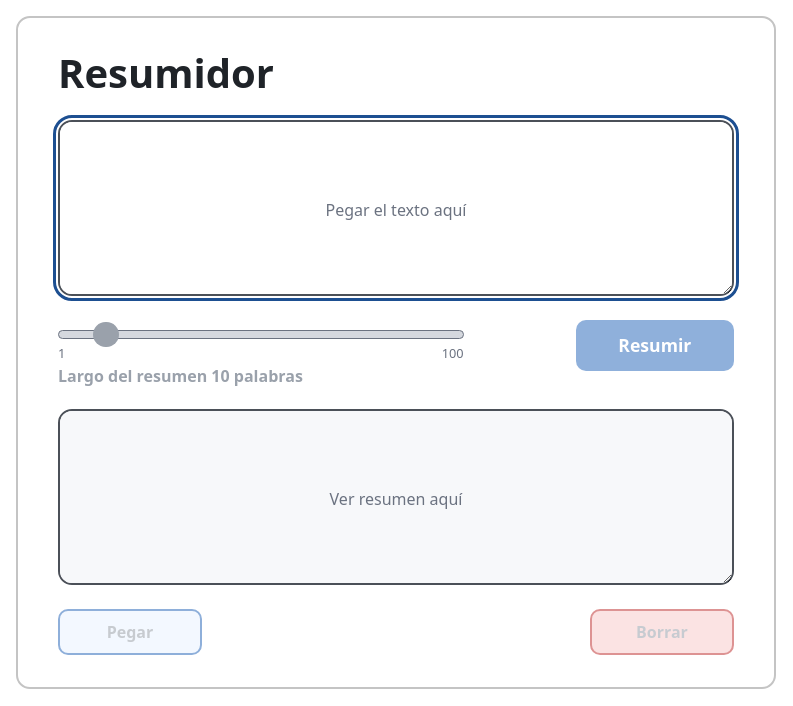
SummarizePage › Borrar limpia la entrada y el resumen
This screenshot has width=793, height=706.
In the text box named "Texto a resumir": (396, 208) [58,120,734,296], type "texto"
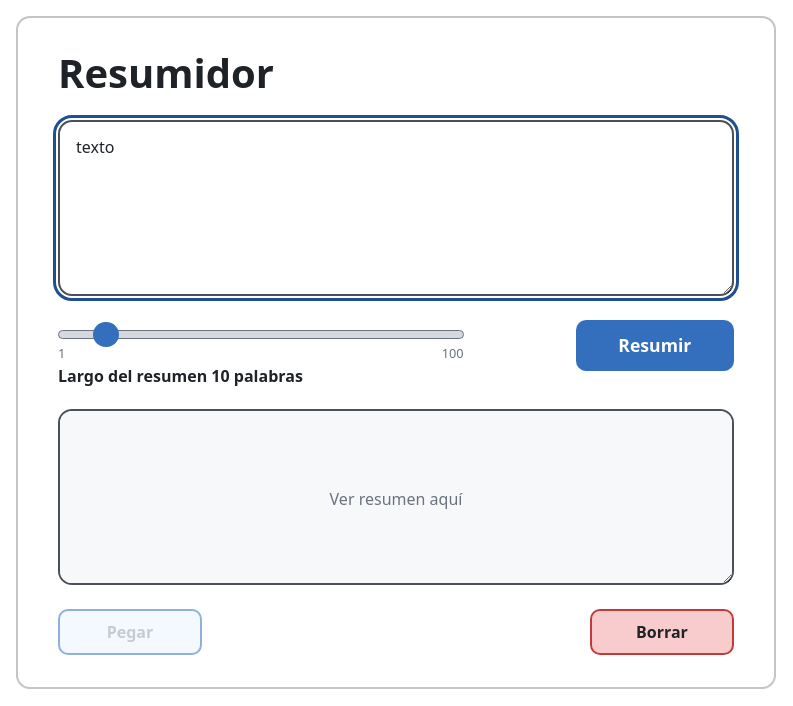
Click the button "Resumir": click(655, 345) [576,320,734,371]
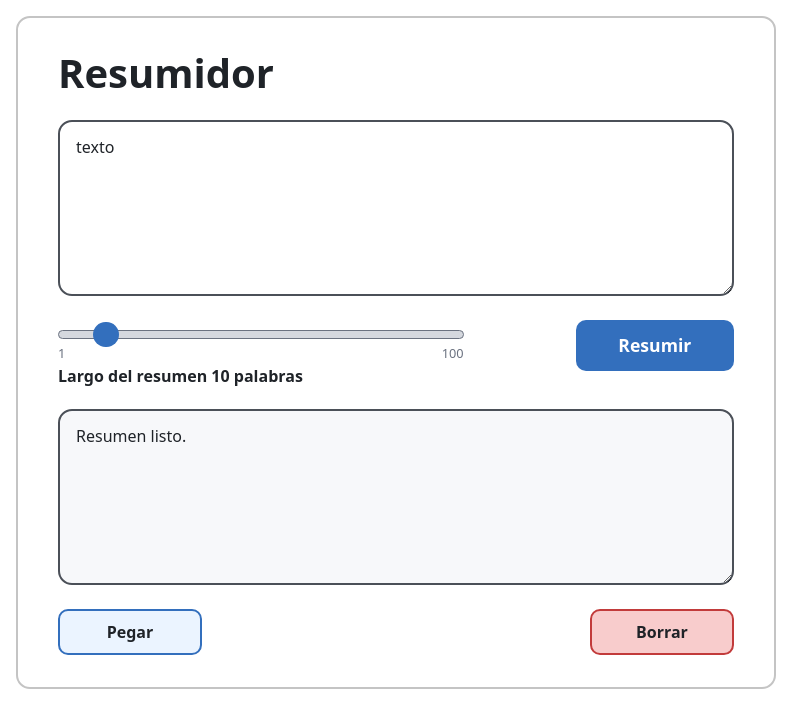
Now the text box showing "Resumen listo." is shown, box [58,409,734,585]
Click the button "Borrar": click(662, 632) [590,609,734,656]
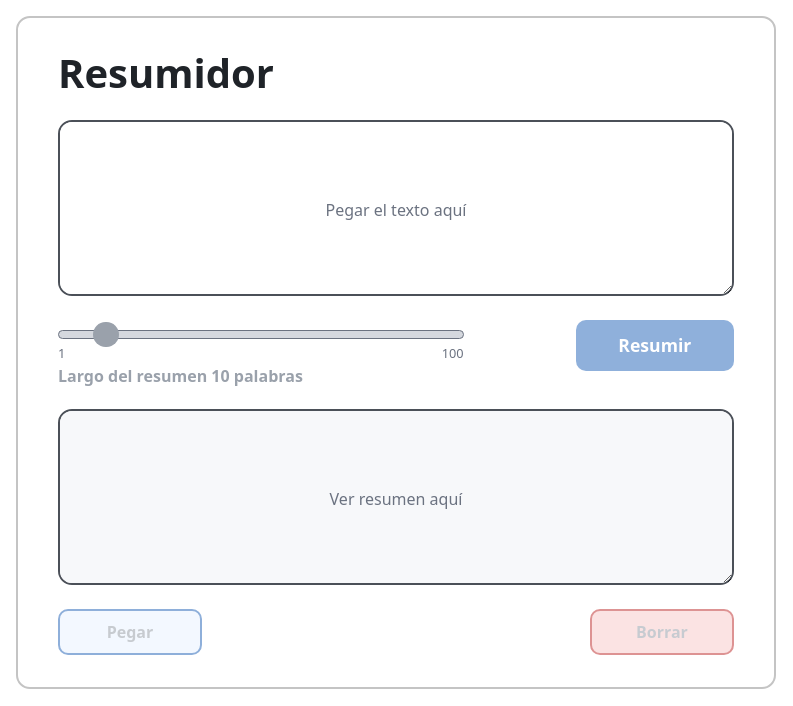
Now the text box named "Texto a resumir" is empty, box [58,120,734,296]
Now the text box named "Resumen del texto" is empty, box [58,409,734,585]
